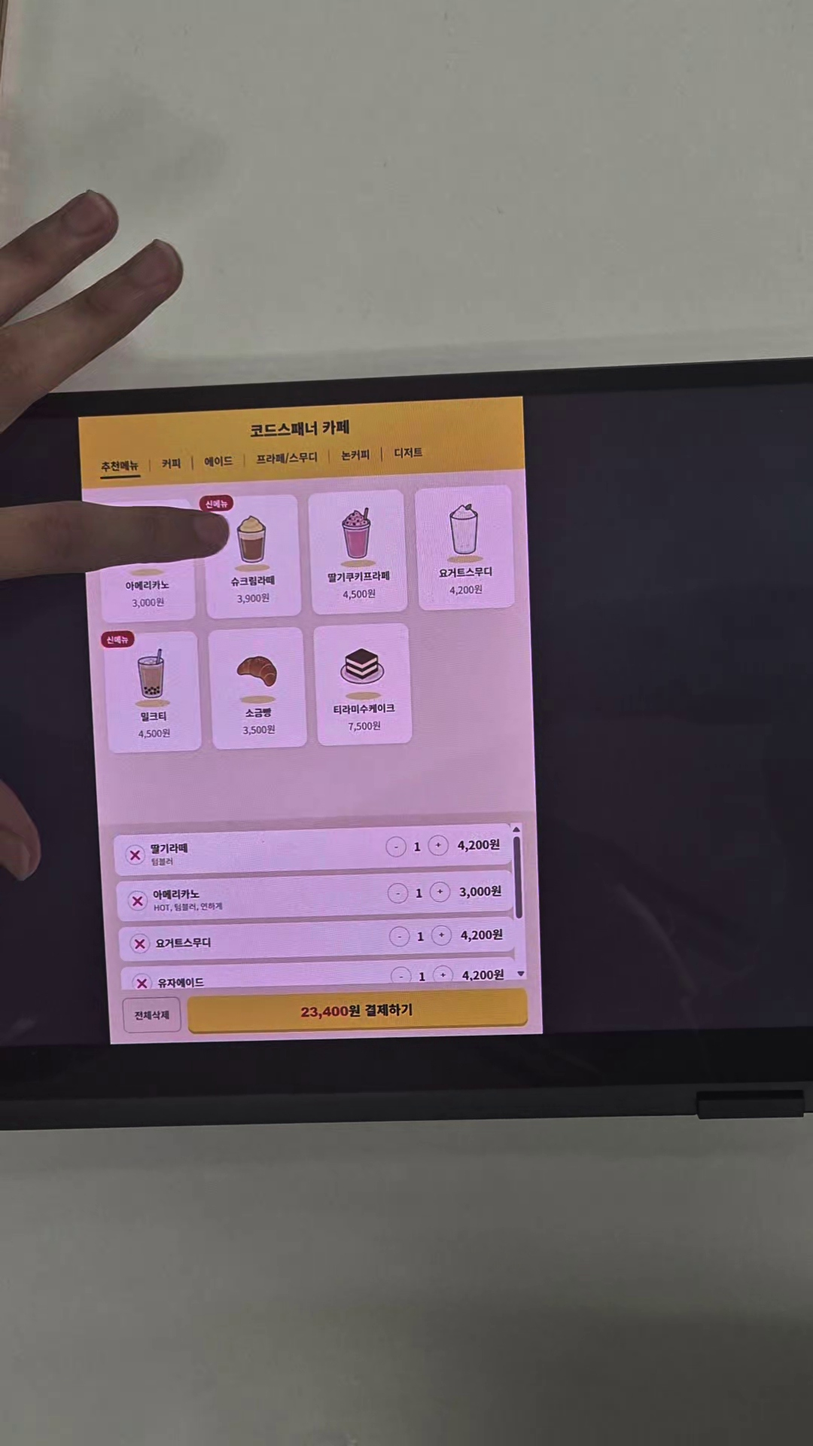action_button: (187, 988, 528, 1035), (123, 997, 181, 1033)
cart_item: (114, 823, 512, 877), (117, 870, 513, 922), (119, 916, 515, 962), (121, 956, 516, 990)
category_tab: (256, 451, 318, 466), (100, 459, 140, 473), (341, 448, 370, 462), (204, 455, 233, 468), (394, 446, 423, 459), (161, 457, 182, 470)
menu_back: (414, 484, 516, 611), (308, 489, 409, 615), (202, 494, 302, 620), (314, 622, 413, 746), (103, 631, 202, 754), (208, 627, 307, 750)
menu_name: (327, 570, 391, 584), (333, 703, 395, 716), (438, 565, 493, 579), (230, 575, 275, 588), (124, 580, 170, 592), (140, 711, 168, 723), (245, 707, 272, 719)
menu_price: (342, 588, 376, 601), (449, 584, 483, 596), (242, 724, 276, 736), (347, 720, 381, 732), (132, 597, 165, 609), (236, 593, 270, 604), (137, 728, 171, 739)
